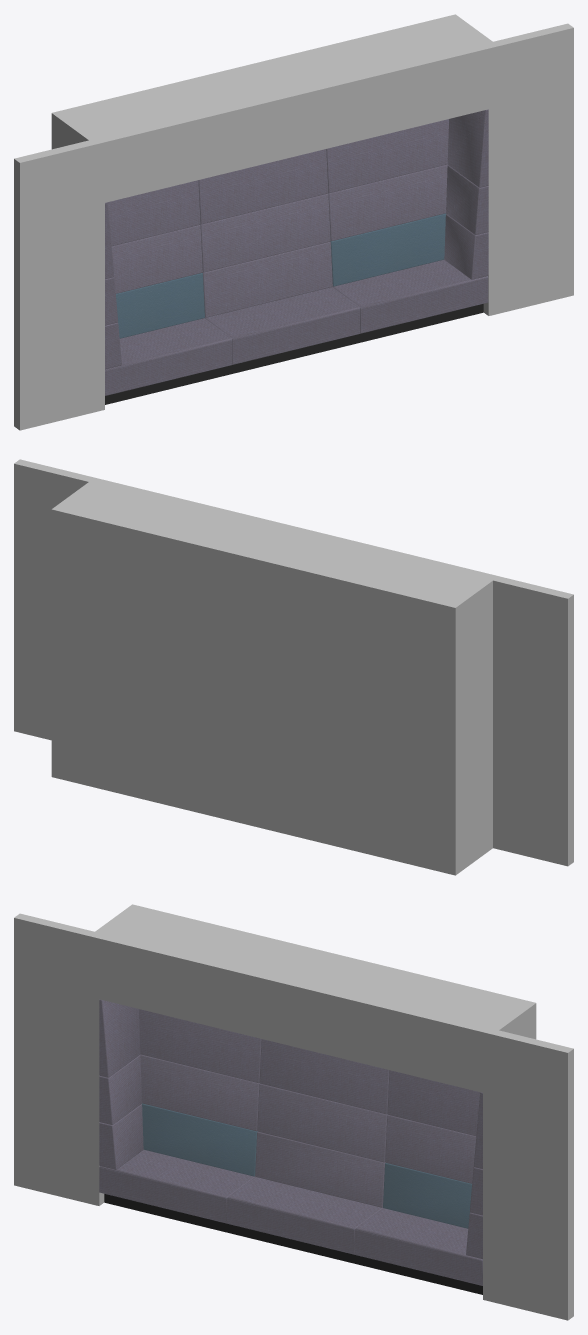
The model's file is cdc_seat.glb.
3 views of the same model, one above another, from view 1: azimuth 30°, elevation 25°; view 2: azimuth 150°, elevation 25°; view 3: azimuth 330°, elevation 25° (orthographic).
Visible parts, largest first — view 1: Wall, Pillows_01, Pillows_02, Frame; view 2: Wall; view 3: Wall, Pillows_01, Pillows_02, Frame.
Boxes of the visible parts, box(x1,y1,x2,y2) form: Wall: box(14, 14, 573, 430); Pillows_01: box(105, 109, 488, 395); Pillows_02: box(116, 213, 445, 338); Frame: box(105, 304, 483, 404); Wall: box(14, 459, 573, 875); Wall: box(14, 904, 573, 1320); Pillows_01: box(99, 999, 482, 1285); Pillows_02: box(142, 1103, 471, 1228); Frame: box(104, 1194, 482, 1294).
Bounding box in the file's own units: 6.5 × 3 × 0.882.
Materials: 6 (2 with a texture image).
